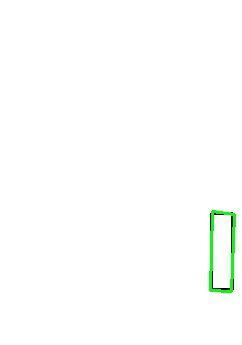line_segment: (209, 211, 235, 292)
